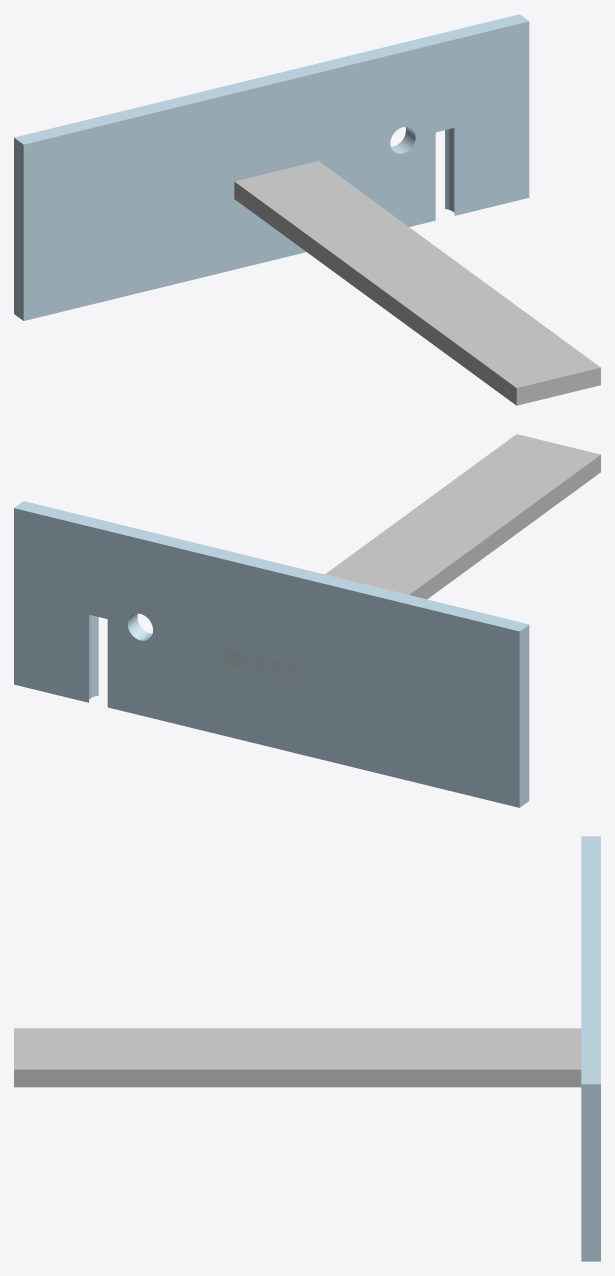
3 renders of one model, top to bottom at view 1: azimuth 30°, elevation 25°; view 2: azimuth 150°, elevation 25°; view 3: azimuth 270°, elevation 25°, orthographic.
Parts seen in each view (by area): view 1: Part 1, Part 2; view 2: Part 1, Part 2; view 3: Part 2, Part 1.
Boxes of the visible parts, x1=… form: Part 1: x1=14, y1=14, x2=529, y2=320; Part 2: x1=234, y1=161, x2=600, y2=405; Part 1: x1=14, y1=501, x2=529, y2=807; Part 2: x1=224, y1=434, x2=600, y2=684; Part 2: x1=14, y1=1028, x2=581, y2=1087; Part 1: x1=581, y1=836, x2=600, y2=1261.
Size of the model in its own units: 0.12 by 0.04 by 0.12.
